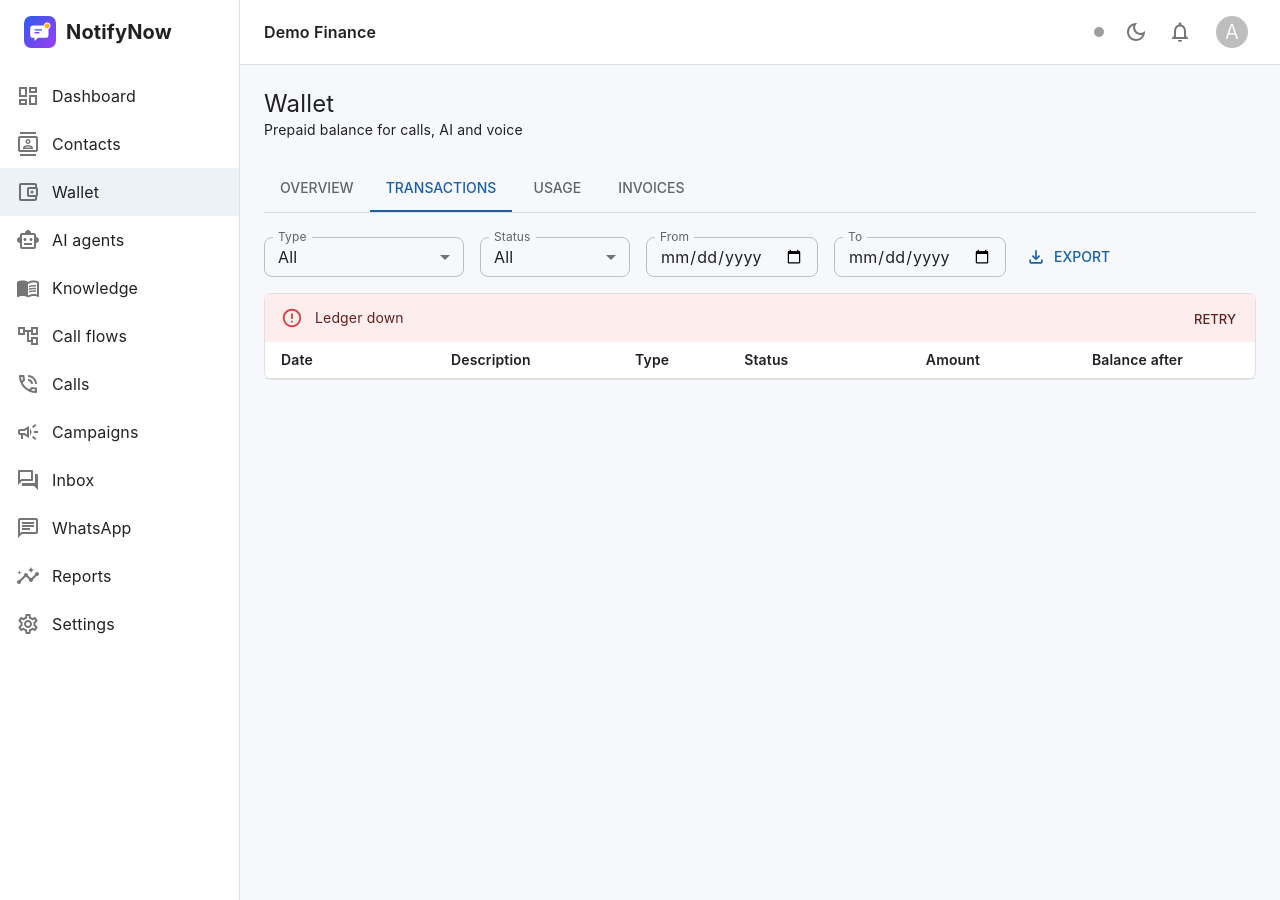
Test case: transactions › loads more with the cursor and retries after an error
Check: the text "Ledger down" is shown, box [315,309,404,326]
Click the button "Retry".
click(1215, 319)  # box [1183,304,1247,335]
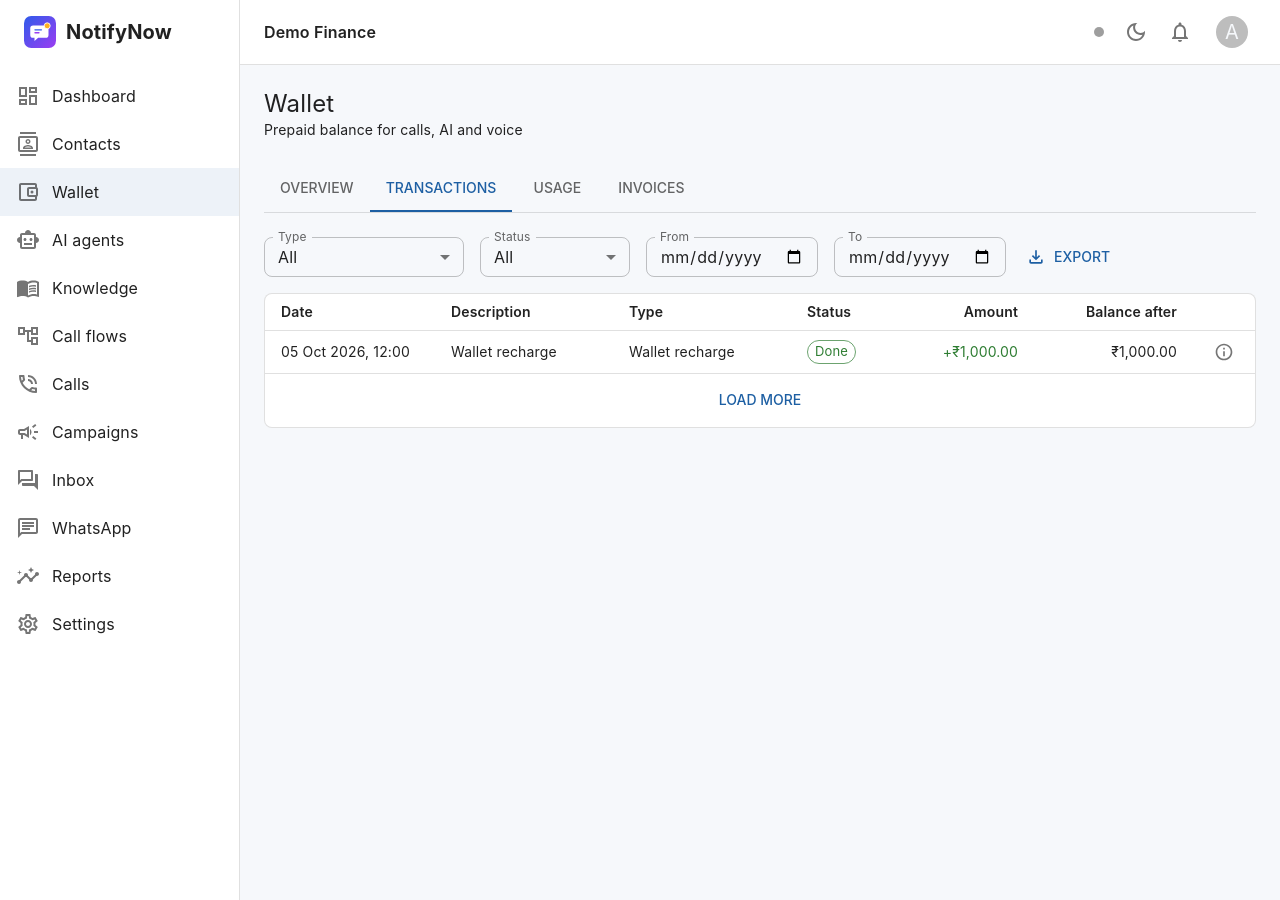
Click the button "Load more".
click(760, 400)  # box [711,382,809,418]
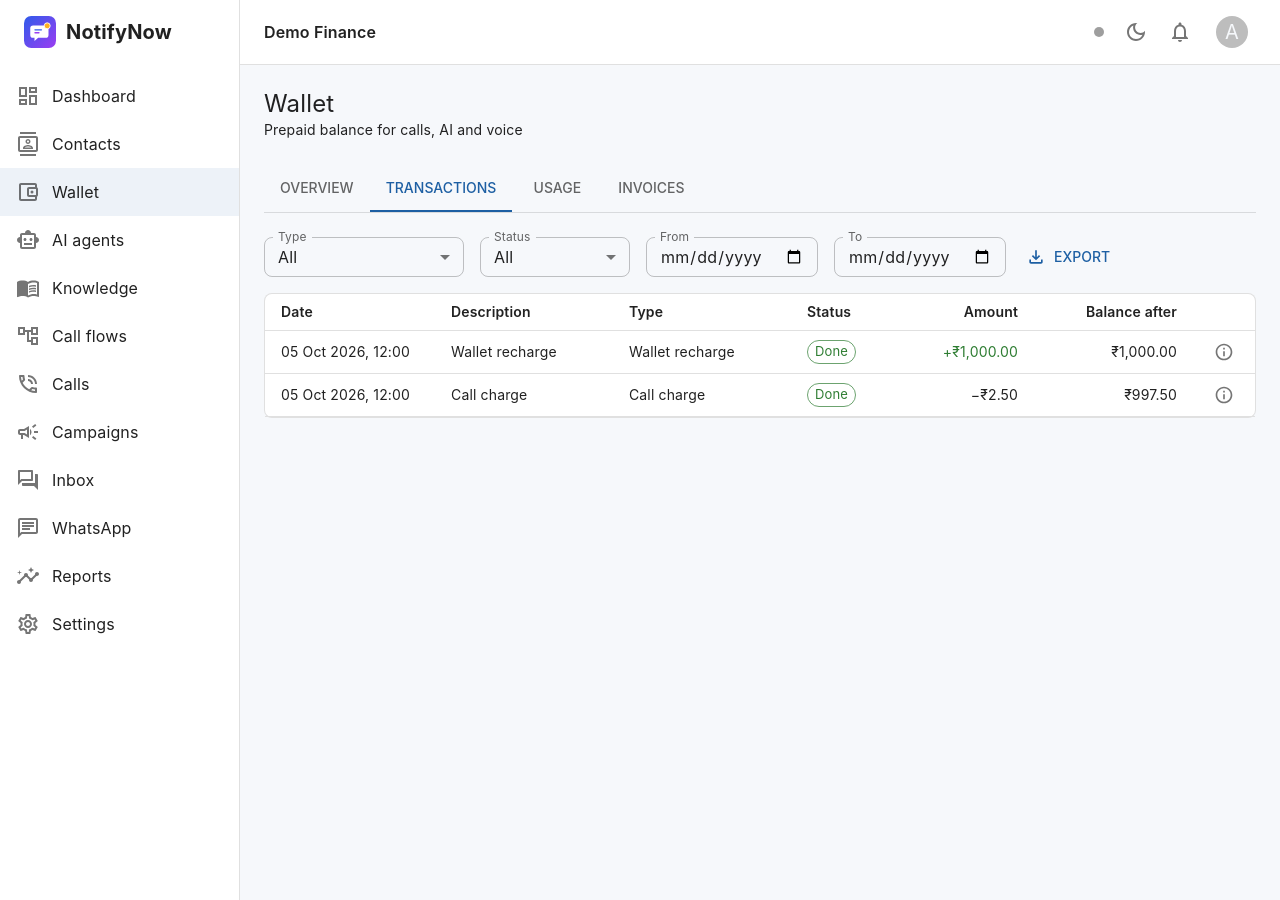
Check: the text "−₹2.50" is shown, box [971,386,1018,403]
Check: the button "Load more" is gone
